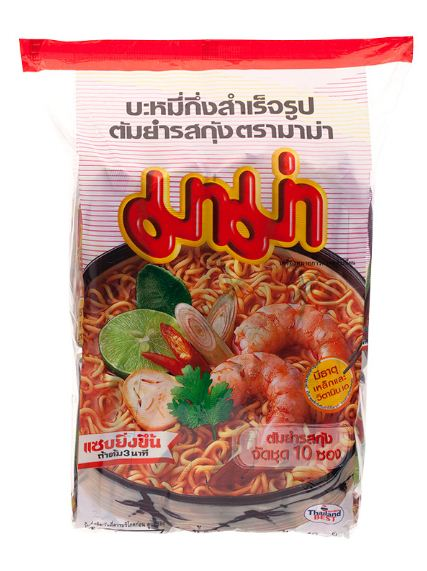Snack: (69, 30, 378, 544)
